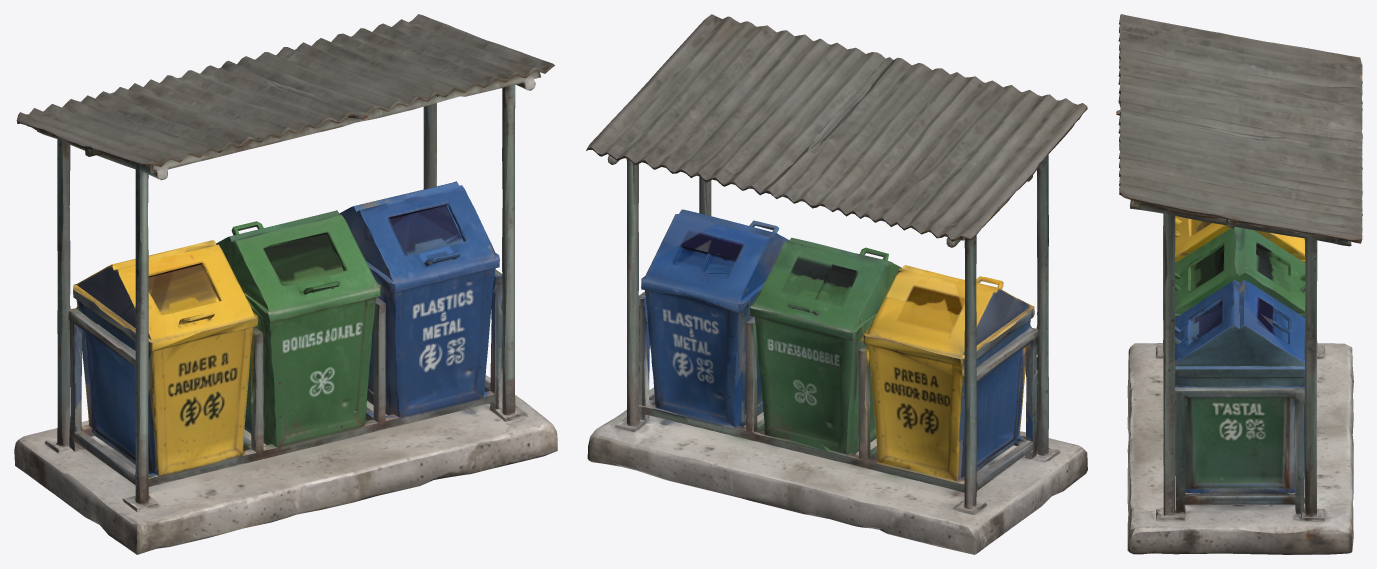
File: waste_hub.glb
The picture shows the model from 3 angles, left to right: view 1: azimuth 30°, elevation 25°; view 2: azimuth 150°, elevation 25°; view 3: azimuth 270°, elevation 25°; orthographic projection. The views are drawn at different scales.
Parts seen in each view (by area): view 1: geometry_0; view 2: geometry_0; view 3: geometry_0.
Boxes of the visible parts, x1=… form: geometry_0: x1=14, y1=14, x2=557, y2=554; geometry_0: x1=586, y1=14, x2=1087, y2=554; geometry_0: x1=1116, y1=14, x2=1362, y2=554.
Bounding box in the file's own units: 2.4 × 2.16 × 1.34.
Materials: 1 (1 with a texture image).
